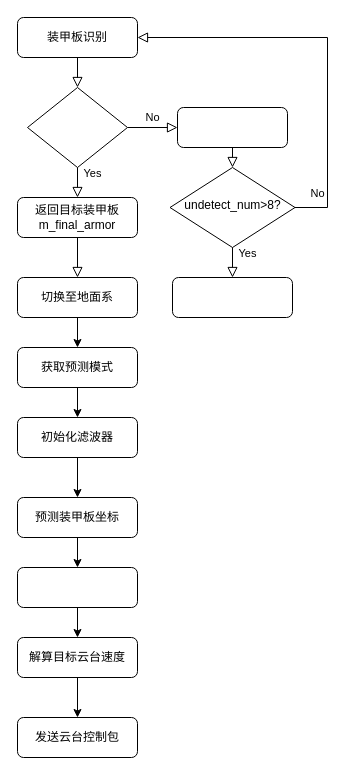
Some shapes in this 355 by 775 pixel diagram are drawn without their labels. Here are the shapes that lost their labels. From the top down, the centre of each, then its label:
(77,127): 识别结果？
(232,127): 未识别到次数加一undetect_num++
(232,297): 发包停下云台
(77,587): 解算目标云台位姿
